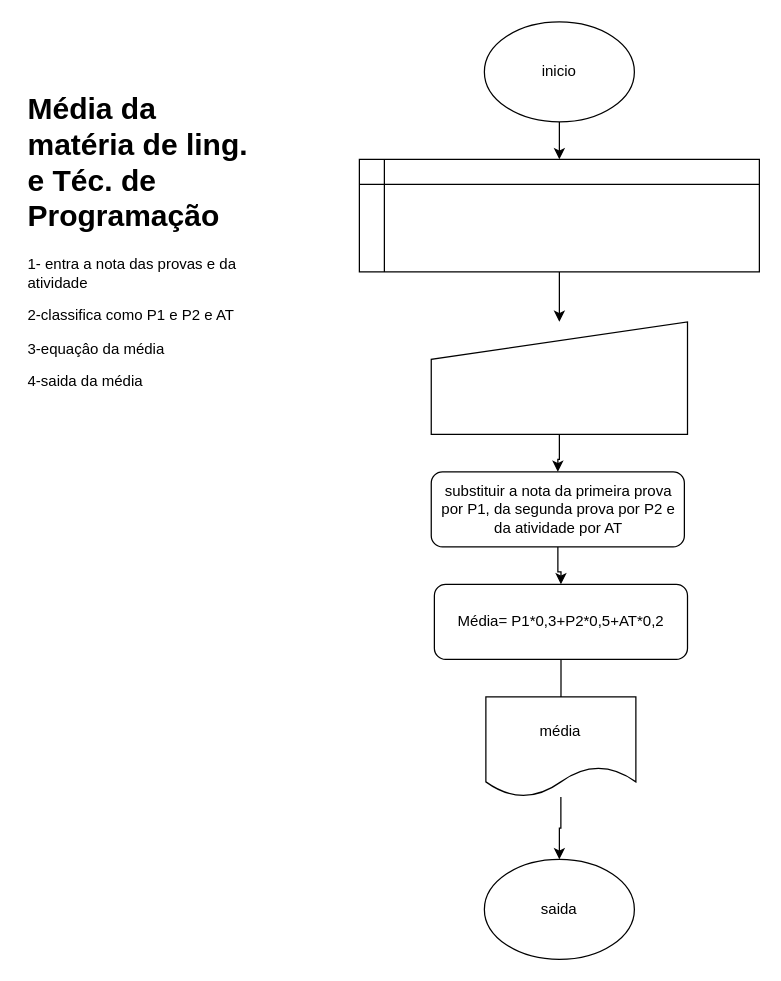
Image size: 781x981. Some labels were removed from this diagram. The centre of each missing label's shape, as x and y in pixels:
entrada da nota das provas e atividade: (559,377)
entrada de notas parciais e saída da média: (558,215)
